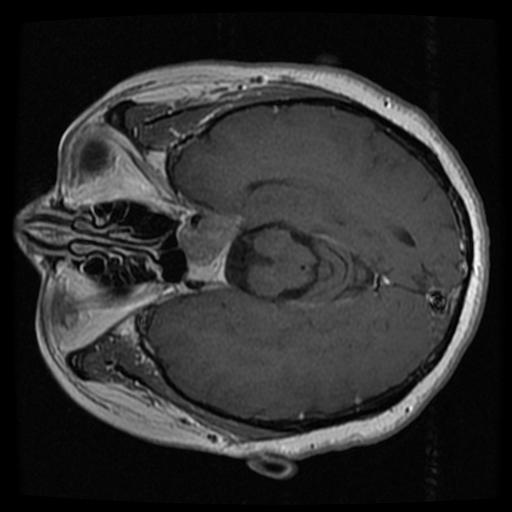pituitary tumour: (180, 216, 230, 283)
